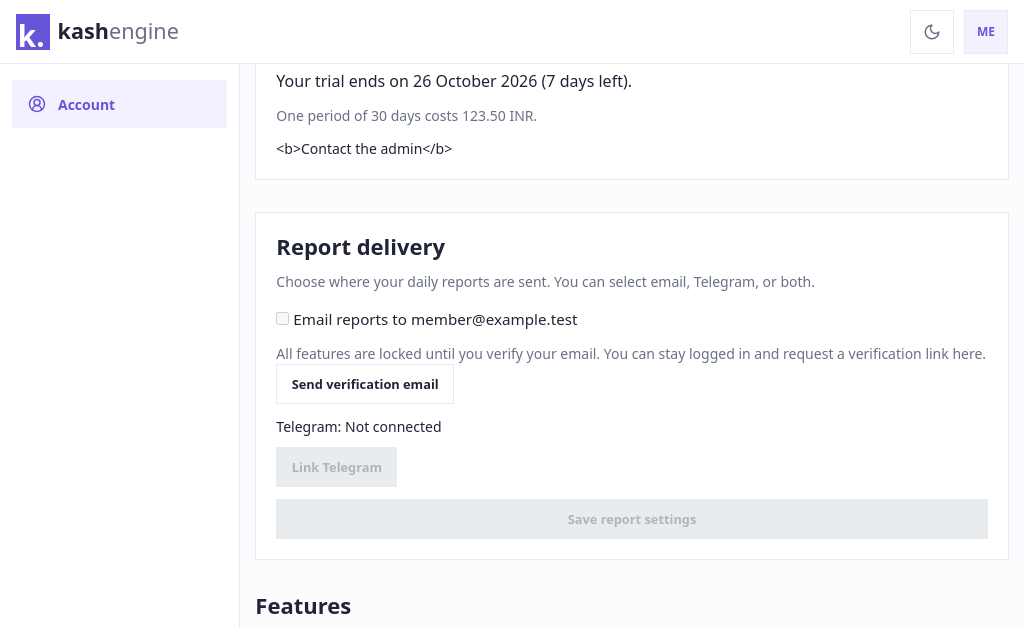
Test: keeps unverified users on Account and allows requesting verification from /account/
(page scrolled)
Expected: the checkbox labelled "Email reports to member@example.test" is disabled, [276,312,289,326]
Expected: the button "Link Telegram" is disabled, [276,447,398,487]
Click the button "Send verification email" at x=365, y=384, box [276,364,454,404]
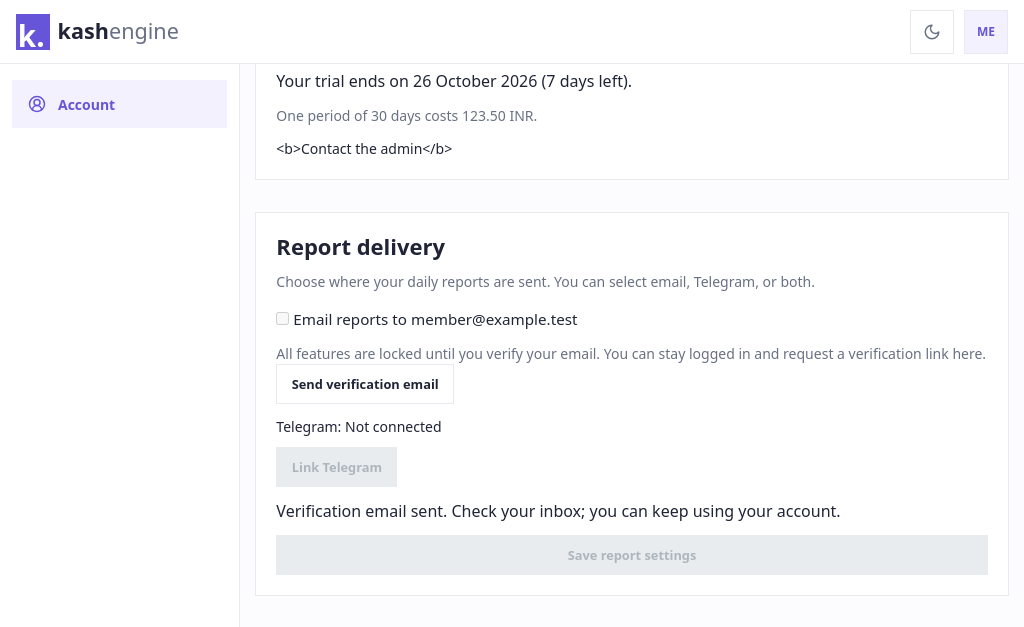
Expected: the checkbox labelled "Email reports to member@example.test" is disabled, [276,312,289,326]
Now the text "Verification email sent. Check your inbox; you can keep using your account." is shown, box [276,500,841,522]
